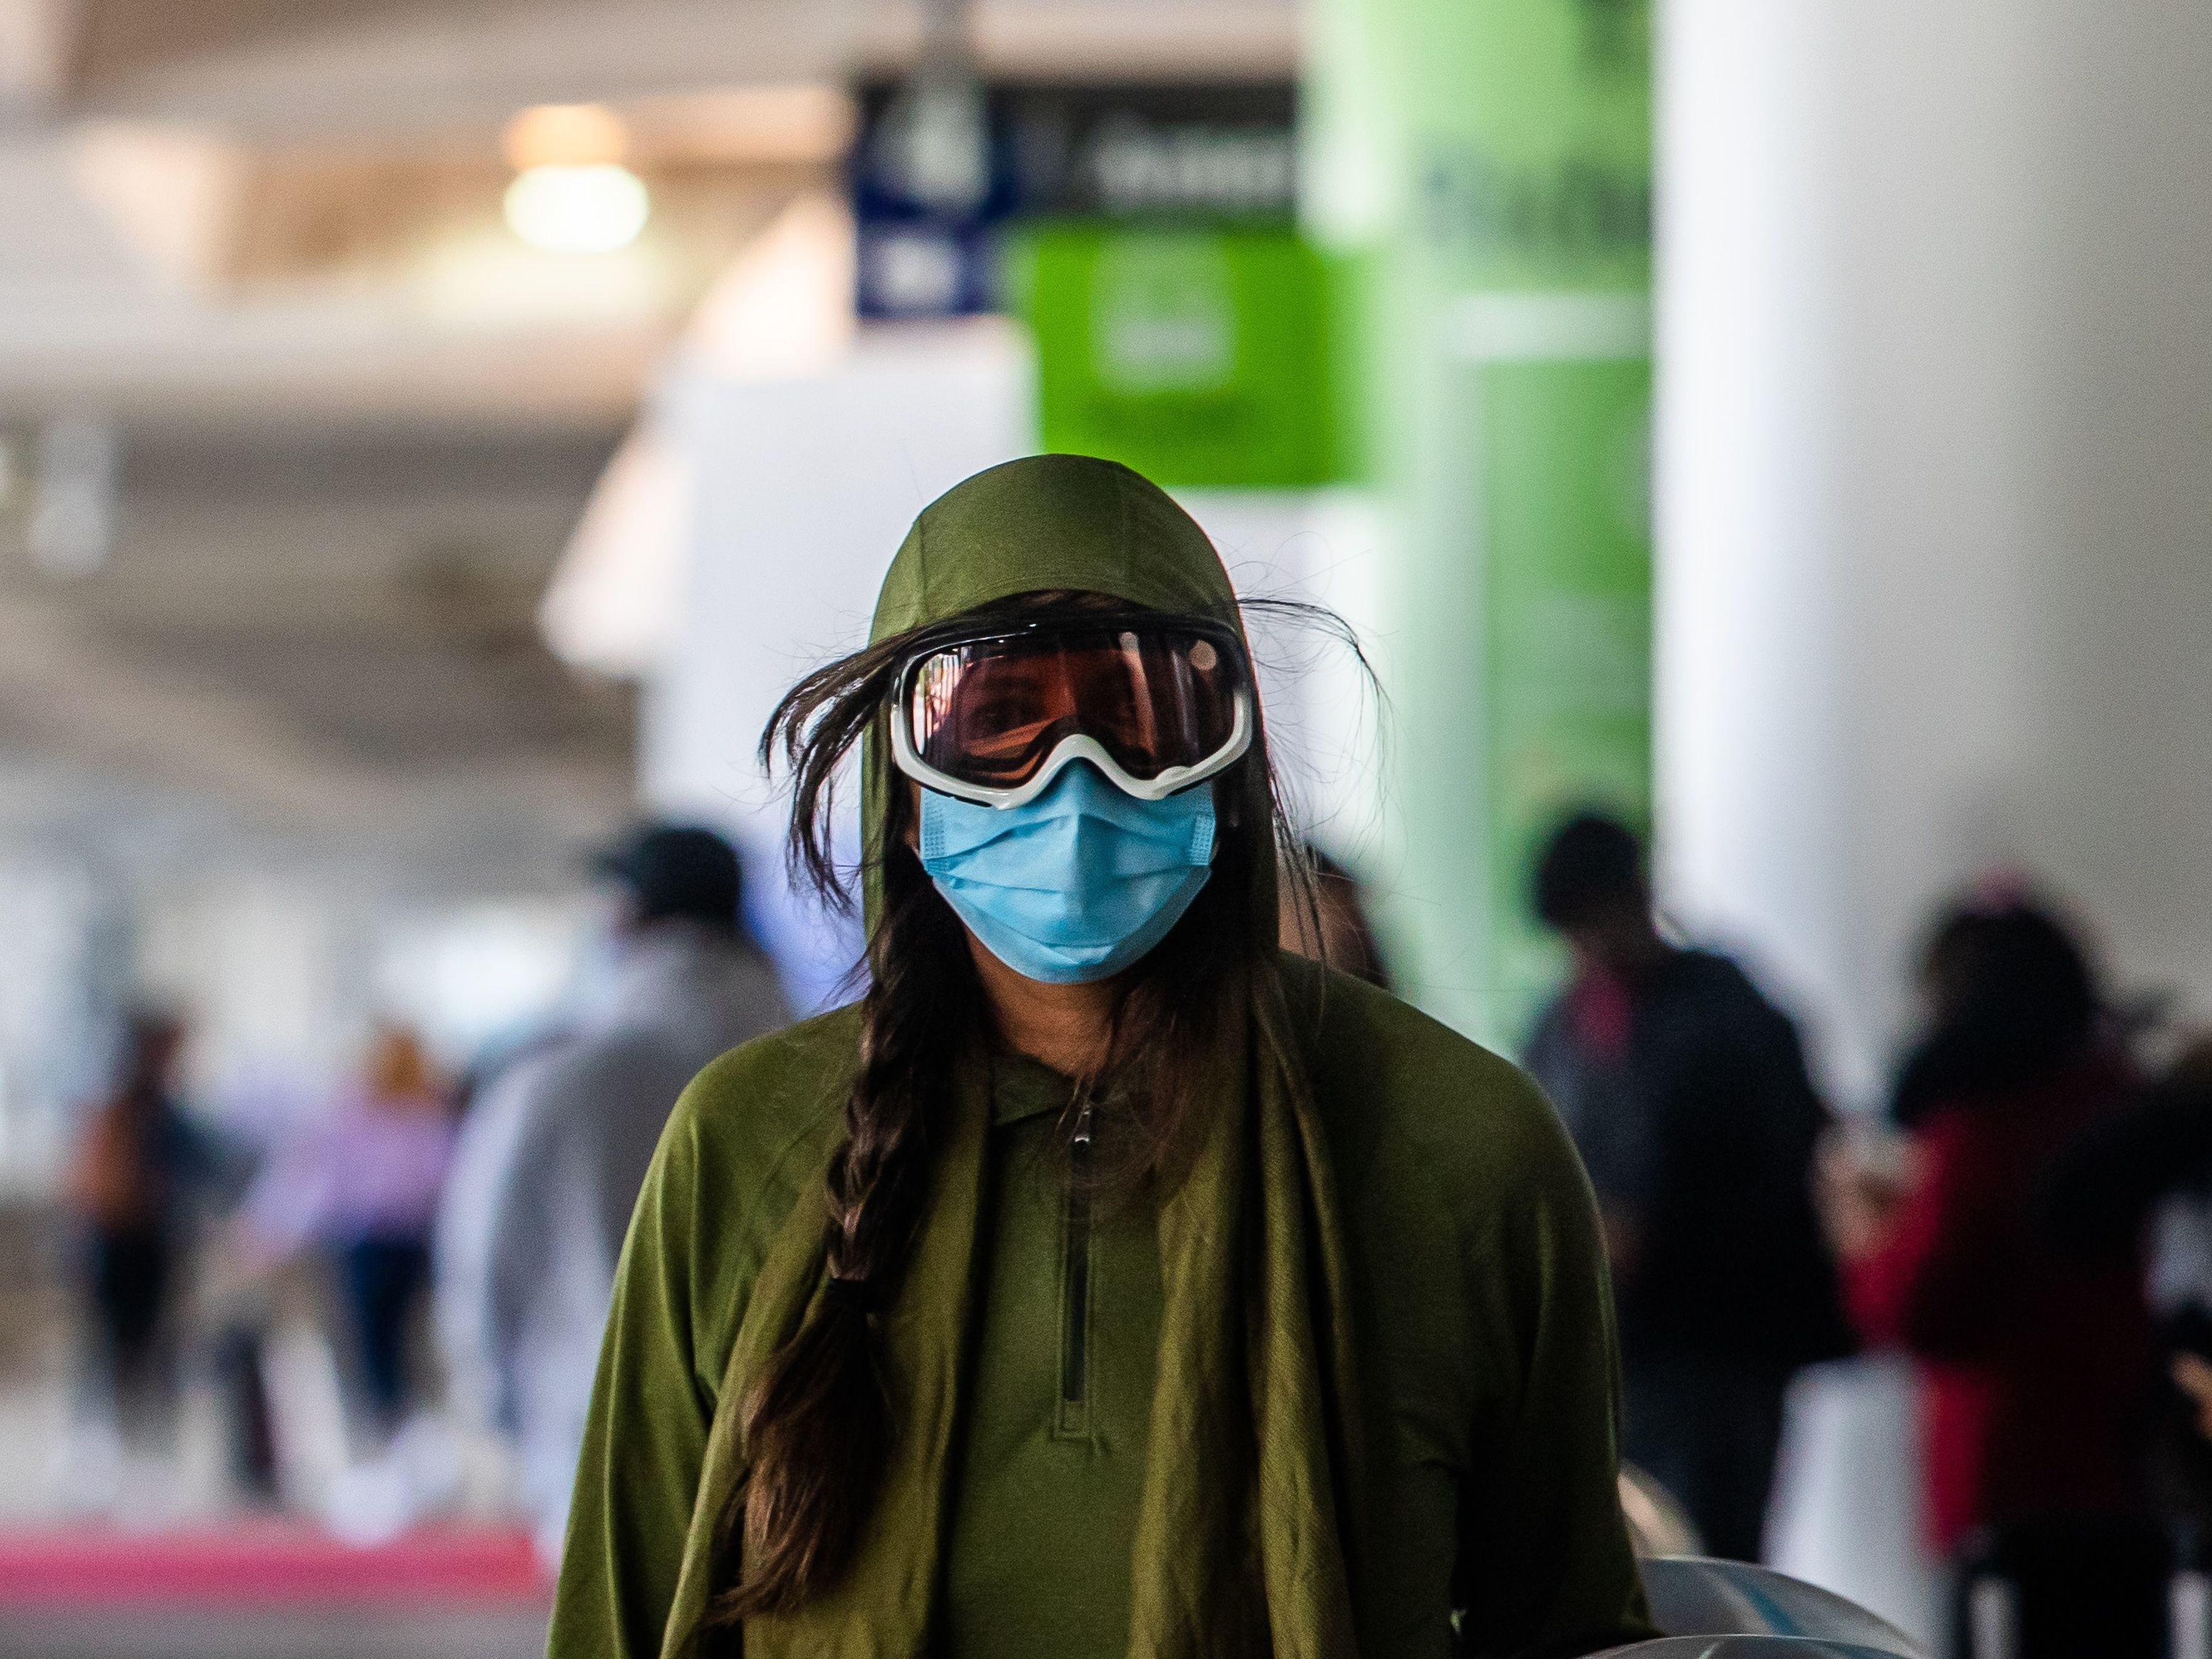Goggles: (882, 620, 1260, 808)
with_mask: (918, 678, 1220, 985)
